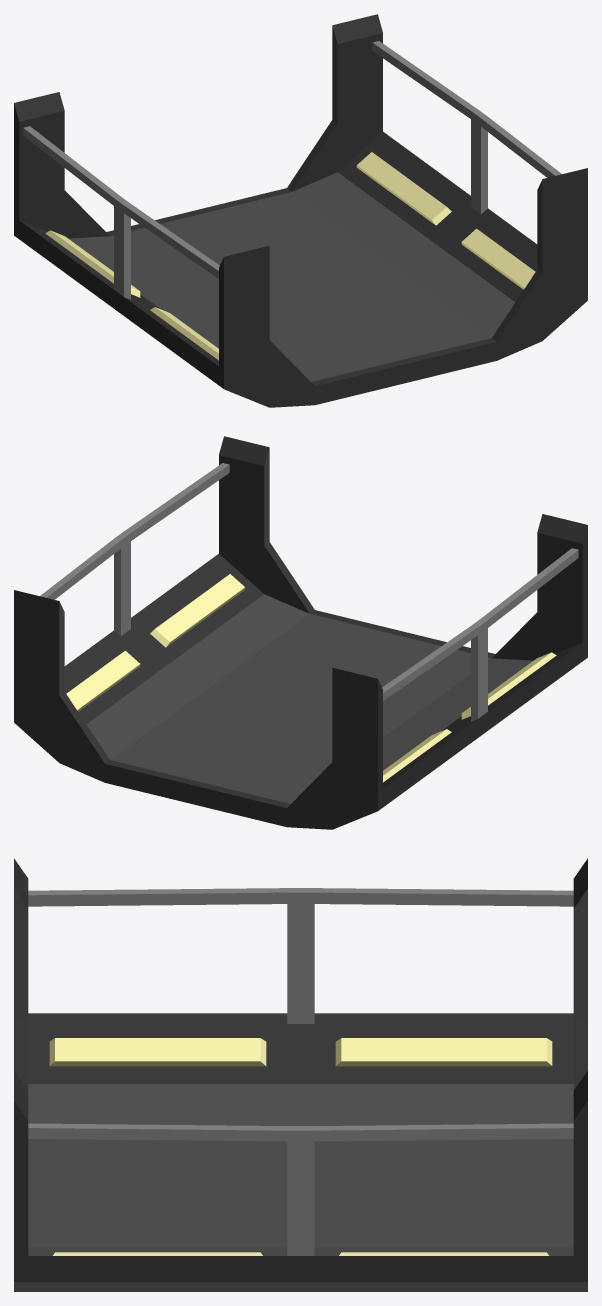
Rendered from Tile_5.fbx.
The picture shows the model from 3 angles, top to bottom: view 1: azimuth 30°, elevation 25°; view 2: azimuth 150°, elevation 25°; view 3: azimuth 270°, elevation 25°; orthographic projection. The views are drawn at different scales.
Parts seen in each view (by area): view 1: Tile5; view 2: Tile5; view 3: Tile5.
Part boxes in pixels (bbox=[...]): Tile5: bbox=[14, 14, 587, 407]; Tile5: bbox=[14, 436, 587, 829]; Tile5: bbox=[14, 858, 587, 1291].
Size of the model in its own units: 200 by 89.65 by 200.
